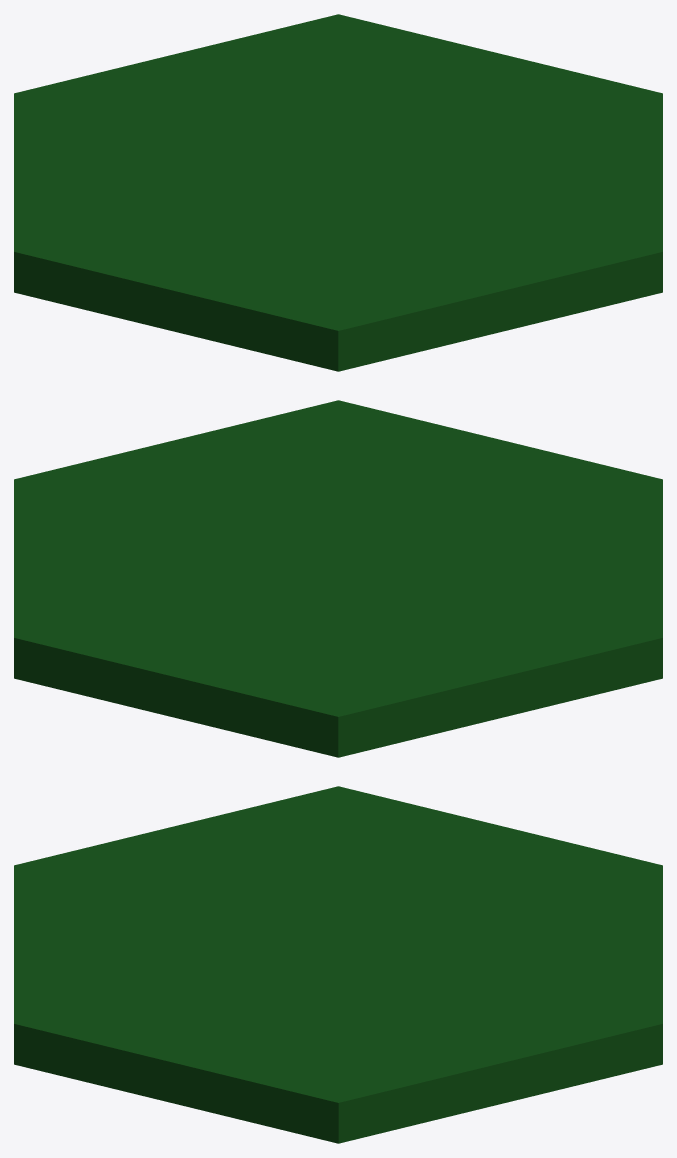
File: dark_grass_full.glb
3 renders of one model, top to bottom at view 1: azimuth 30°, elevation 25°; view 2: azimuth 150°, elevation 25°; view 3: azimuth 270°, elevation 25°, orthographic.
Visible parts, largest first — view 1: Dark_Grass_Full; view 2: Dark_Grass_Full; view 3: Dark_Grass_Full.
Boxes of the visible parts, x1=… form: Dark_Grass_Full: x1=14, y1=14, x2=662, y2=371; Dark_Grass_Full: x1=14, y1=400, x2=662, y2=757; Dark_Grass_Full: x1=14, y1=786, x2=662, y2=1143.
Bounding box in the file's own units: 1.16 × 0.0697 × 1.
